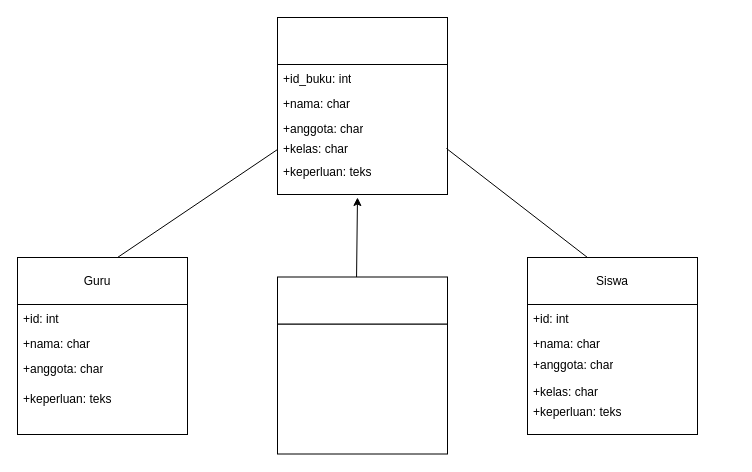
This 752x472 diagram has some shape labels left out. Each missing label, with the box of its shape:
Kunjungan: (276, 16, 448, 64)
staff: (276, 276, 448, 324)
